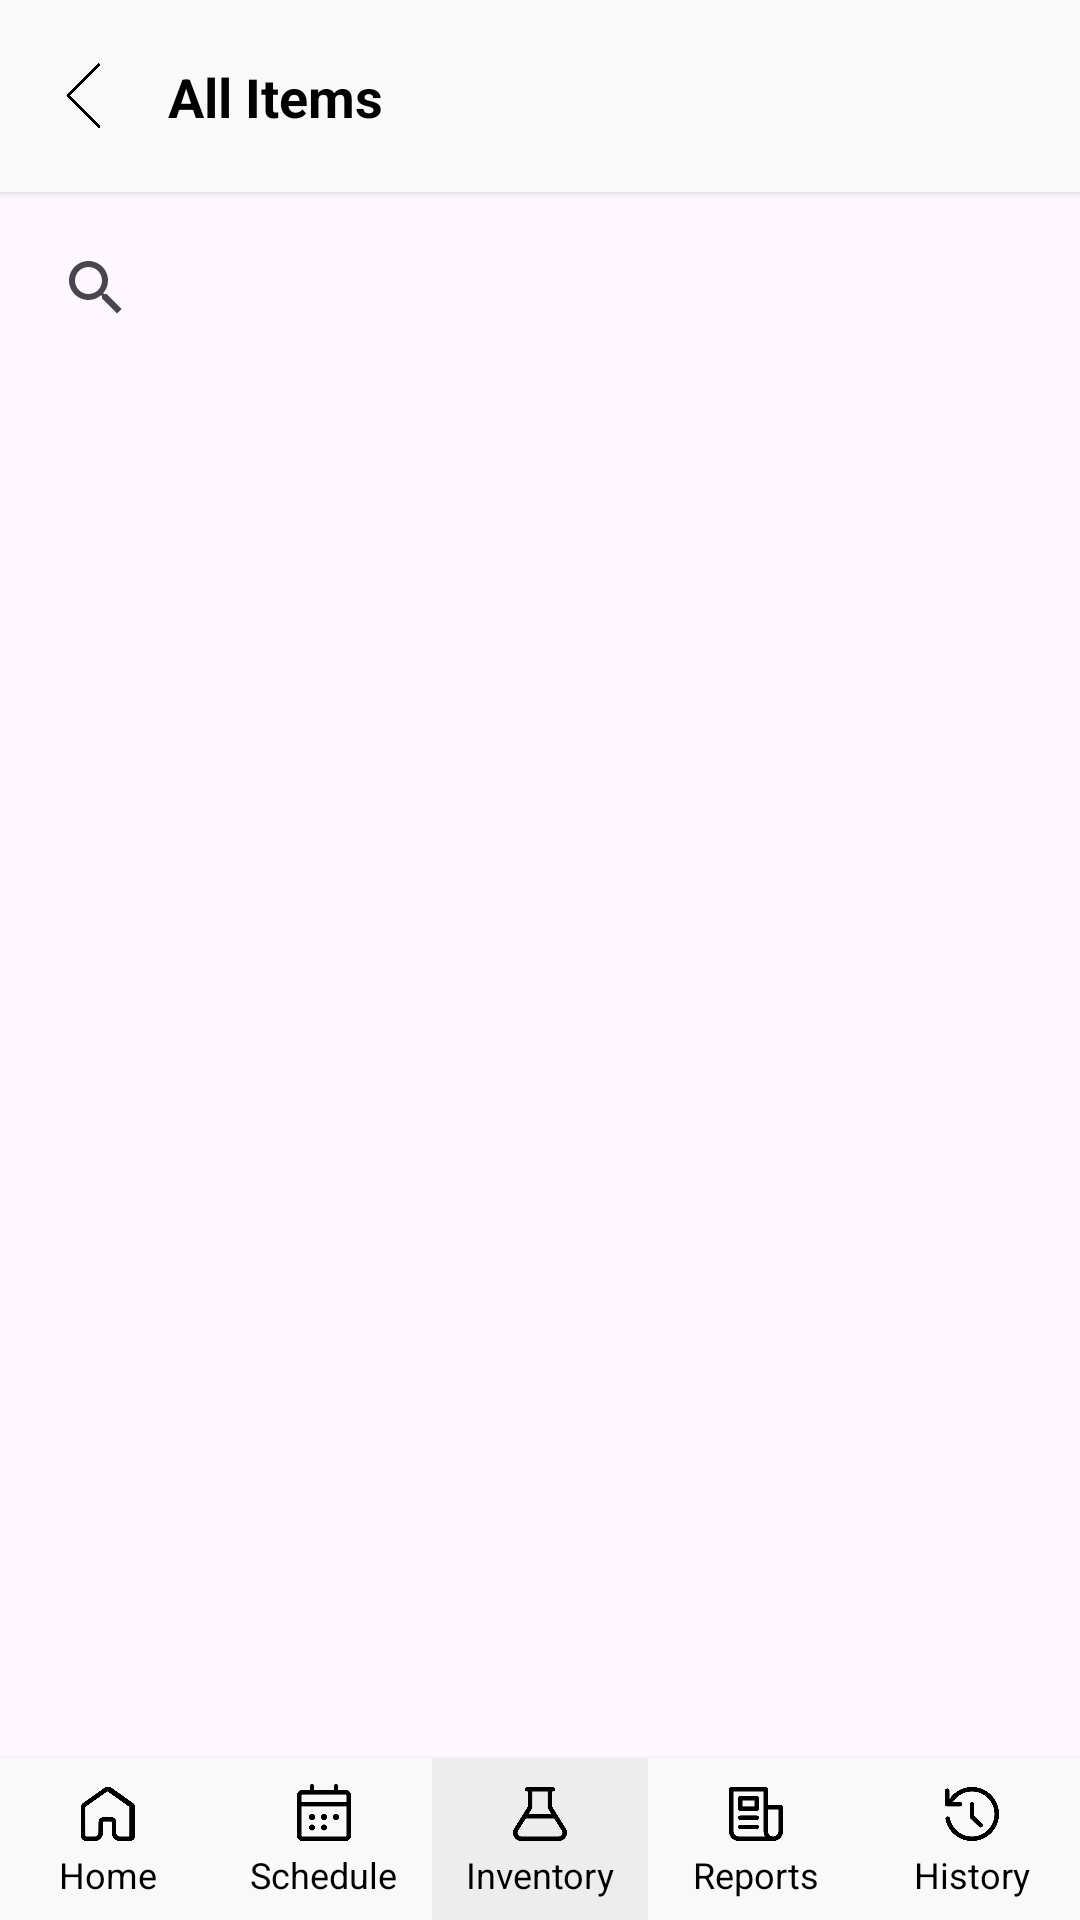

Where icons sit on this 1080w x 1920h app screen, as rect(x1, y1, x2, y2):
Back: rect(66, 63, 100, 128)
